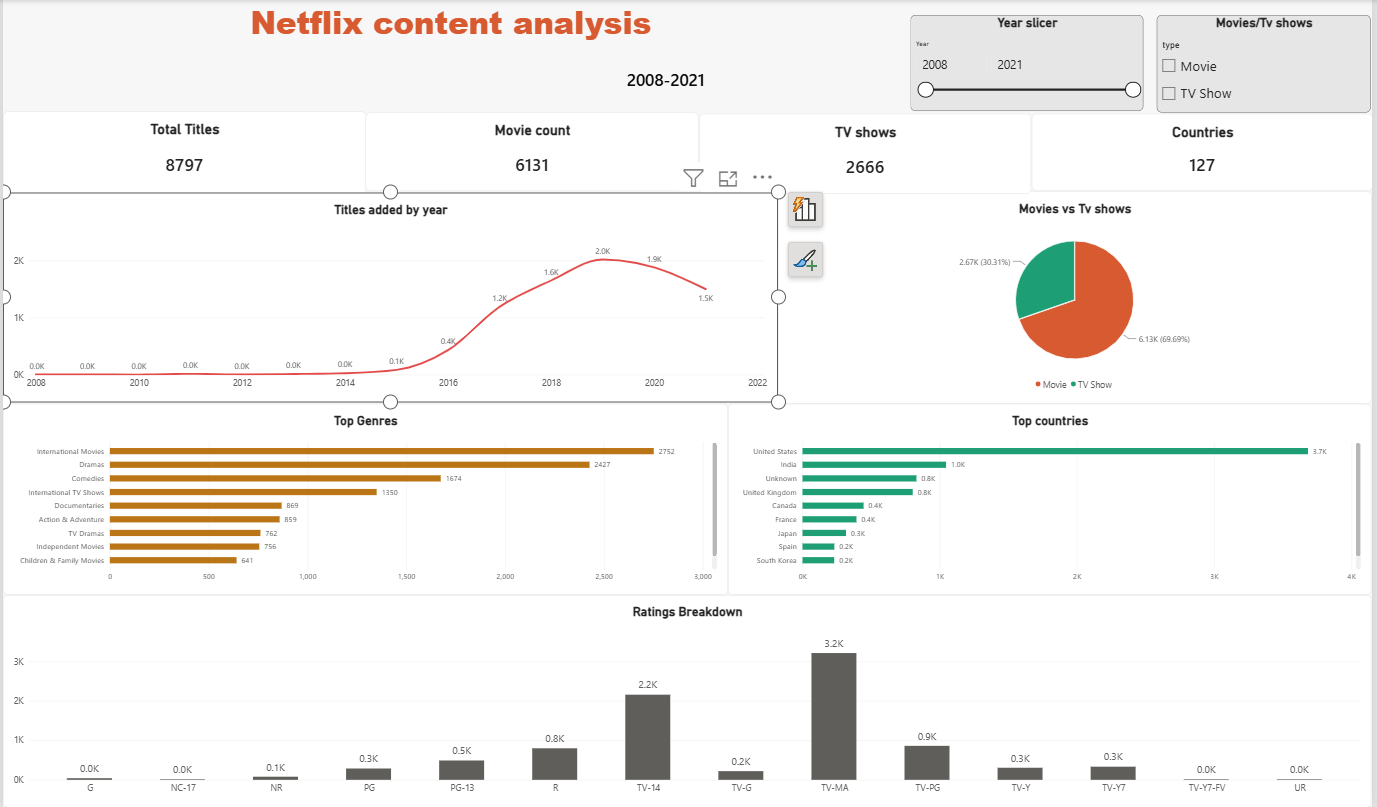

This screenshot's page, from the dashboard's own definition file:
{"tool":"powerbi","page":{"name":"Page 1","canvas":[2200,1300],"ordinal":0},"visuals":[{"type":"lineChart","title":"Titles added by year ","fields":{"Category":["netflix_titles.year_added"],"Y":["CountNonNull(netflix_titles.title)"]},"box":[0,309.3,1246,337.6],"z":0},{"type":"pieChart","title":"Movies vs Tv shows ","fields":{"Category":["netflix_titles.type"],"Y":["CountNonNull(netflix_titles.title)"]},"box":[1246,307.1,954.1,342],"z":1000},{"type":"clusteredBarChart","title":"Top Genres","fields":{"Category":["netflix_genre.genre"],"Y":["CountNonNull(netflix_genre.show_id)"]},"box":[0,649.1,1165.4,307.1],"z":2000},{"type":"clusteredBarChart","title":"Top countries ","fields":{"Y":["CountNonNull(netflix_countries.show_id)"],"Category":["netflix_countries.country"]},"box":[1165.4,649.1,1034.7,307.1],"z":3000},{"type":"columnChart","title":"Ratings Breakdown ","fields":{"Category":["netflix_titles.rating"],"Y":["CountNonNull(netflix_titles.title)"]},"box":[0,956.3,2200.1,342],"z":4000},{"type":"card","title":"Total Titles","fields":{"Values":["CountNonNull(netflix_titles.title)"]},"box":[0,178.6,583.8,132.9],"z":5000},{"type":"card","title":"Movie count","fields":{"Values":["CountNonNull(netflix_titles.type)"]},"box":[583.8,180.8,535.9,126.3],"z":6000},{"type":"card","title":"TV shows ","fields":{"Values":["CountNonNull(netflix_titles.type)"]},"box":[1119.6,183,533.7,128.5],"z":7000},{"type":"card","title":"Countries","fields":{"Values":["Count(netflix_countries.country)"]},"box":[1653.3,183,548.9,124.2],"z":8000},{"type":"textbox","title":"Netflix content analysis ","box":[0,0,1439.9,178.6],"z":9000},{"type":"slicer","title":"Year slicer","fields":{"Values":["netflix_titles.date_added.Variation.Date Hierarchy.Year"]},"box":[1459.5,24,374.7,154.7],"z":9001},{"type":"slicer","title":"Movies/Tv shows ","fields":{"Values":["netflix_titles.type"]},"box":[1855.9,24,344.2,156.8],"z":9002}]}

Visuals, with their boxes in screenshot pixels (x1, y1, x2, y2), scaled from the page's 2200x1300 canvas onto the 1377x807 screenshot:
"Titles added by year " lineChart: [0,192,780,402]
"Movies vs Tv shows " pieChart: [780,191,1376,403]
"Top Genres" clusteredBarChart: [0,403,729,594]
"Top countries " clusteredBarChart: [729,403,1376,594]
"Ratings Breakdown " columnChart: [0,594,1376,806]
"Total Titles" card: [0,111,365,193]
"Movie count" card: [365,112,701,191]
"TV shows " card: [701,114,1035,193]
"Countries" card: [1035,114,1376,191]
"Netflix content analysis " textbox: [0,0,901,111]
"Year slicer" slicer: [914,15,1148,111]
"Movies/Tv shows " slicer: [1162,15,1376,112]
